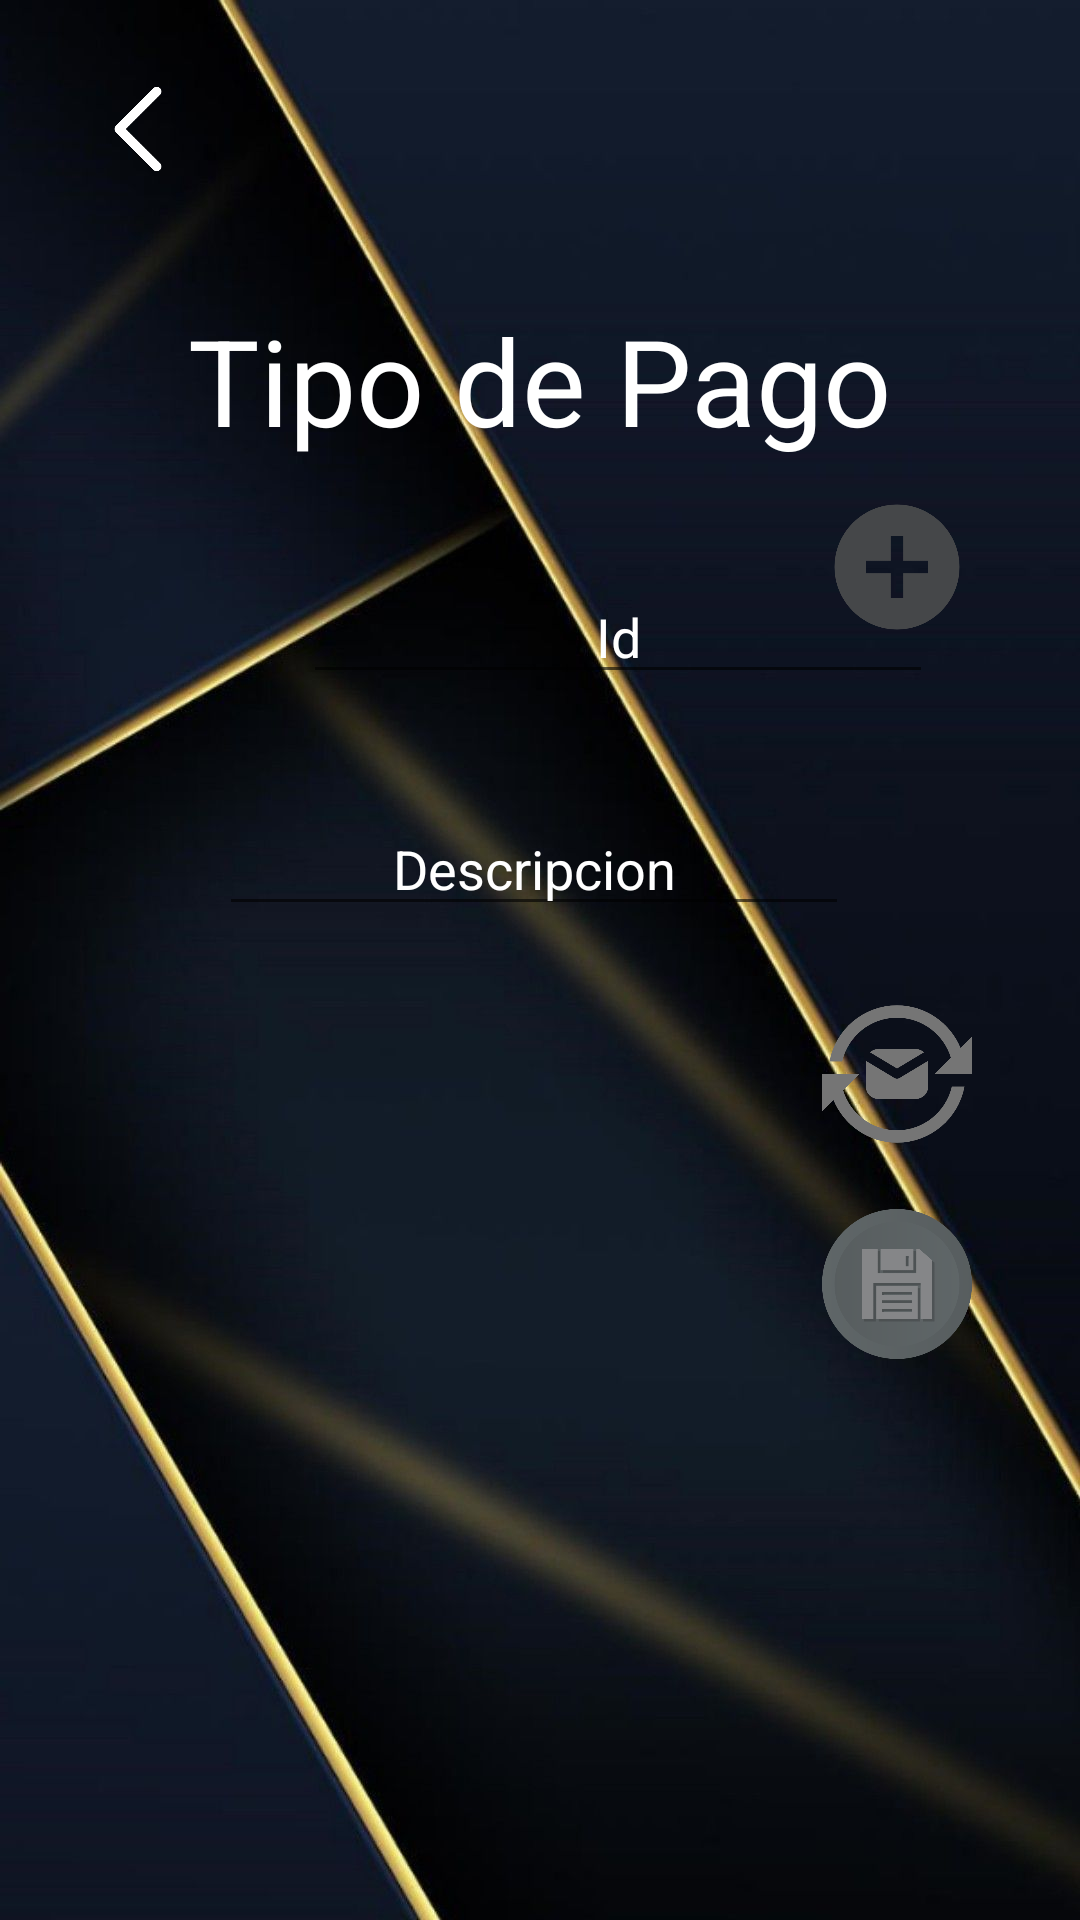

Point at icon controls on the screen. Image size 1080 × 1920, points as (x,y).
actualizar: (897,1077)
agregar: (897,567)
guardar: (897,1284)
